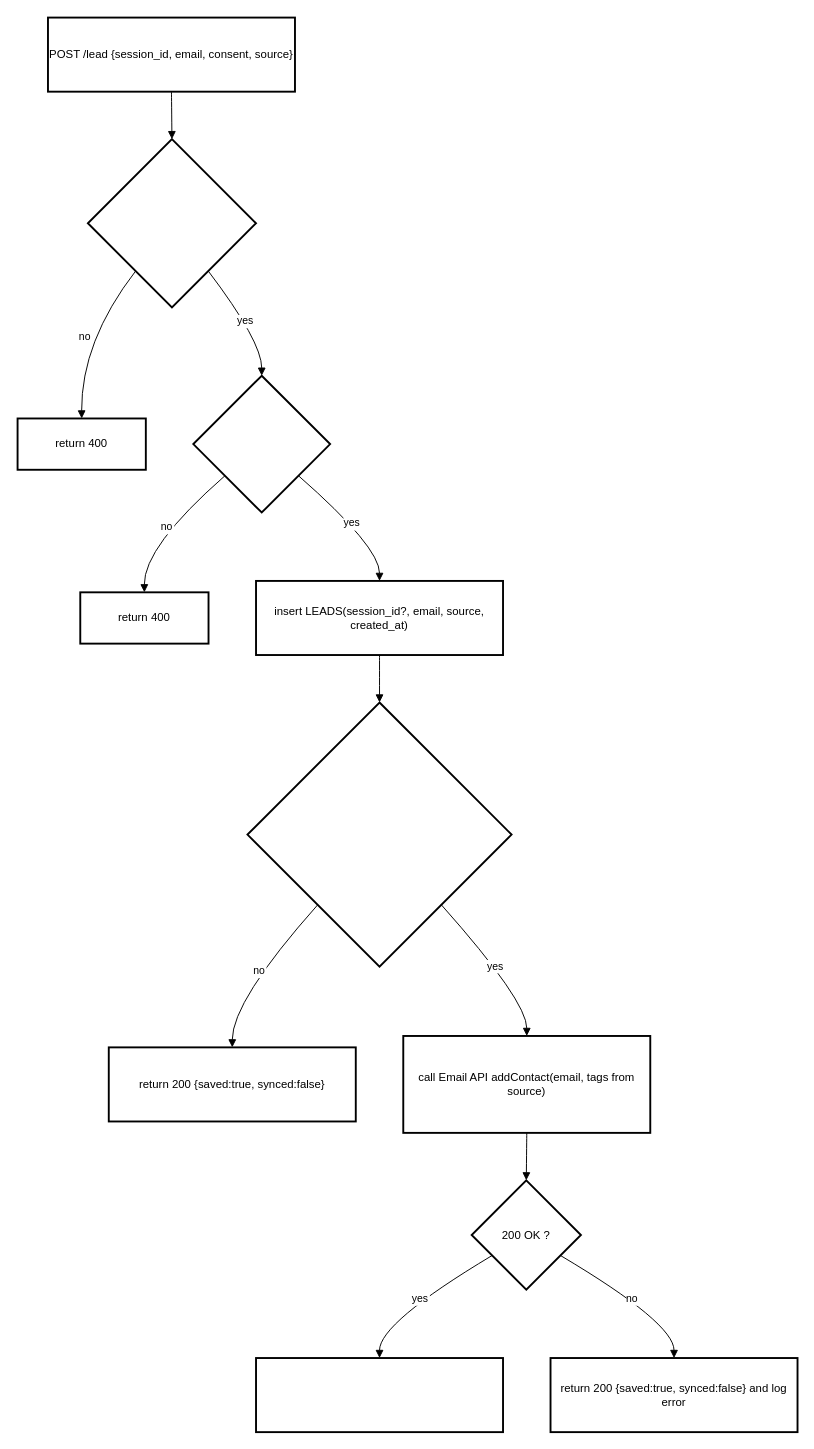
This 814x1449 diagram has some shape labels left out. Here are the shapes that lost their labels. From the top down, the centre of each, then its label:
At pixel 171 223: "consent == true ?".
At pixel 261 443: "email valid ?".
At pixel 379 834: "EMAIL_PROVIDER_KEY present ?".
At pixel 379 1395: "return 200 {saved:true, synced:true}".
